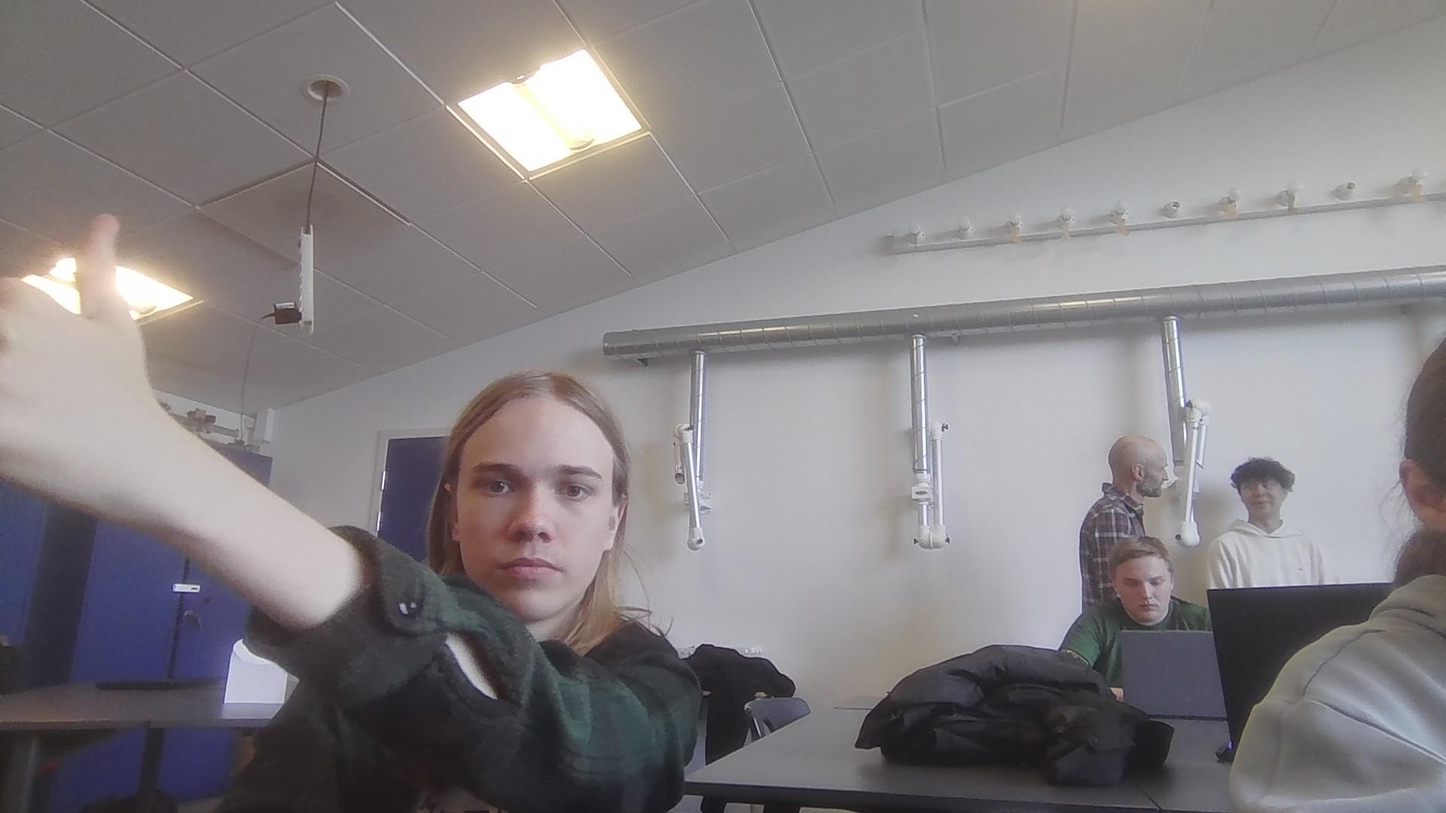thumbs up: (0, 204, 177, 533)
